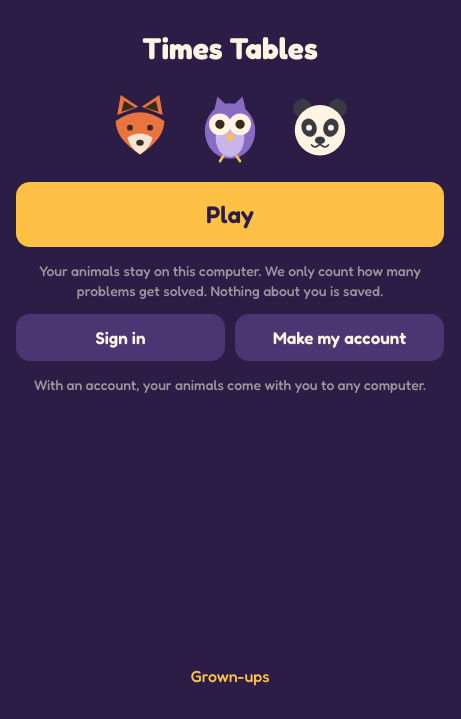
Test: playing without an account › saves in this browser only; nothing goes to the server
Click the button "Play" at (230,214), box [16, 182, 444, 247]
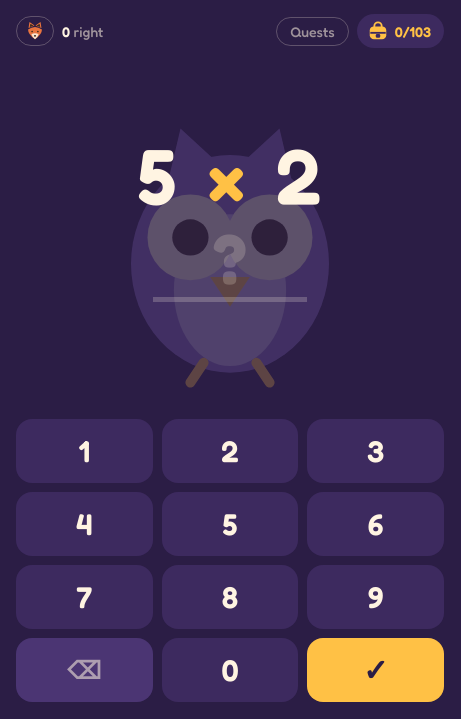
Expected: the element showing "5 × 2" is shown, [137, 136, 323, 214]
Type keys "10"
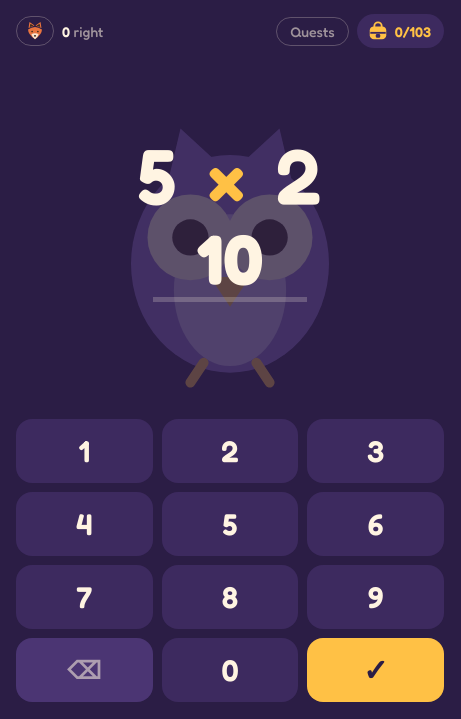
Press Enter
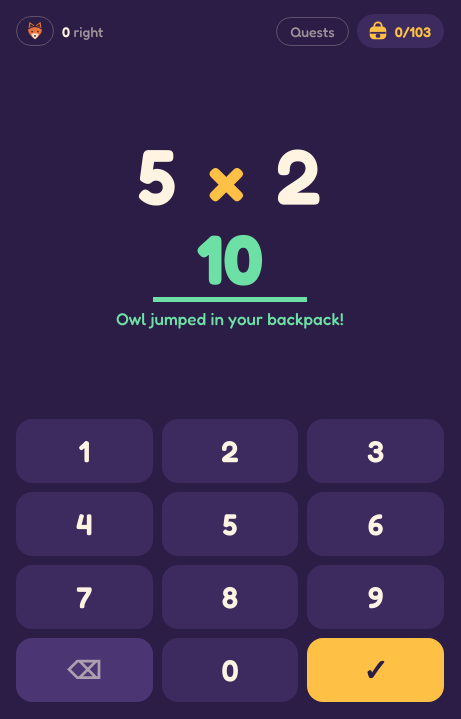
Click the button named "Switch player" at (35,31), box [16, 16, 54, 46]
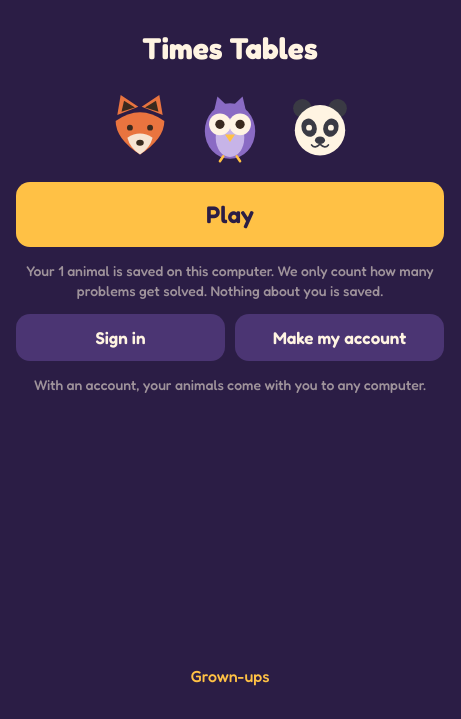
Expected: the text "Your 1 animal is saved on this computer" is shown, [26, 262, 274, 279]
Expected: the text "Nothing about you is saved" is shown, [77, 262, 434, 299]
